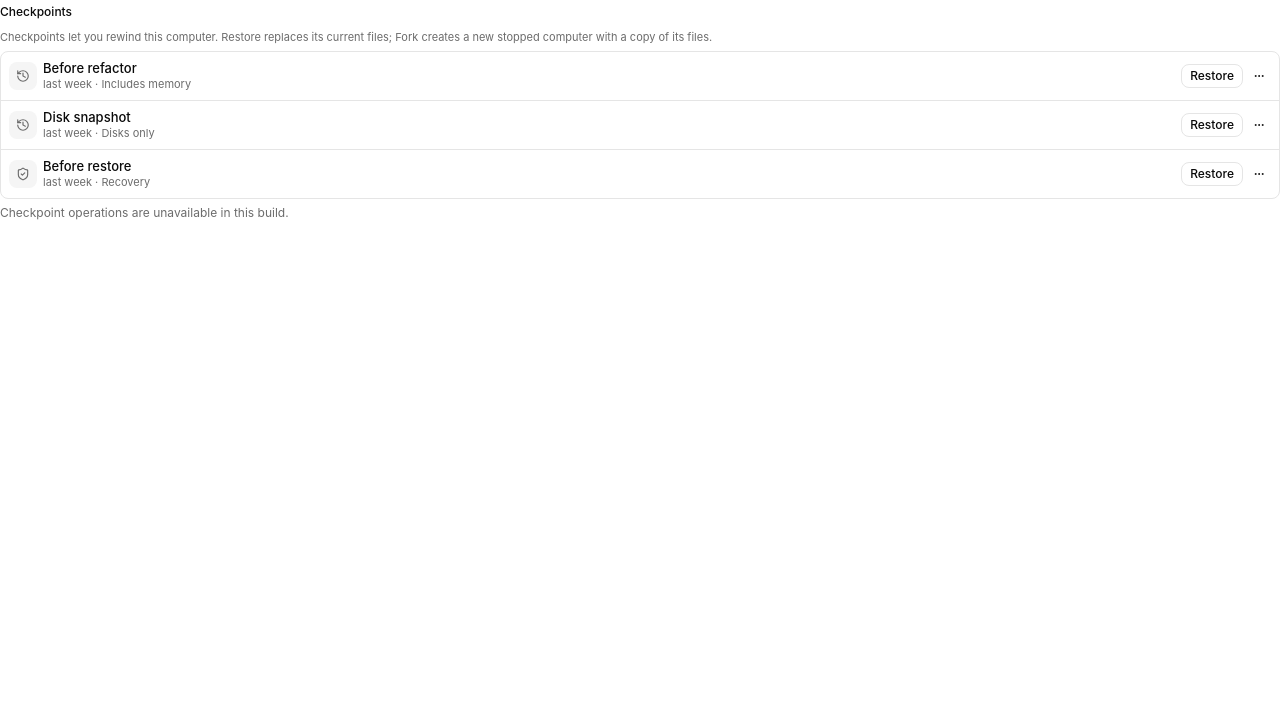
Test: explains the pause, memory checkpoint and force-stop before restoring a running computer
Click the button "Restore" in the row of "Includes memory" at point(1212, 76), box [1181,64,1243,88]
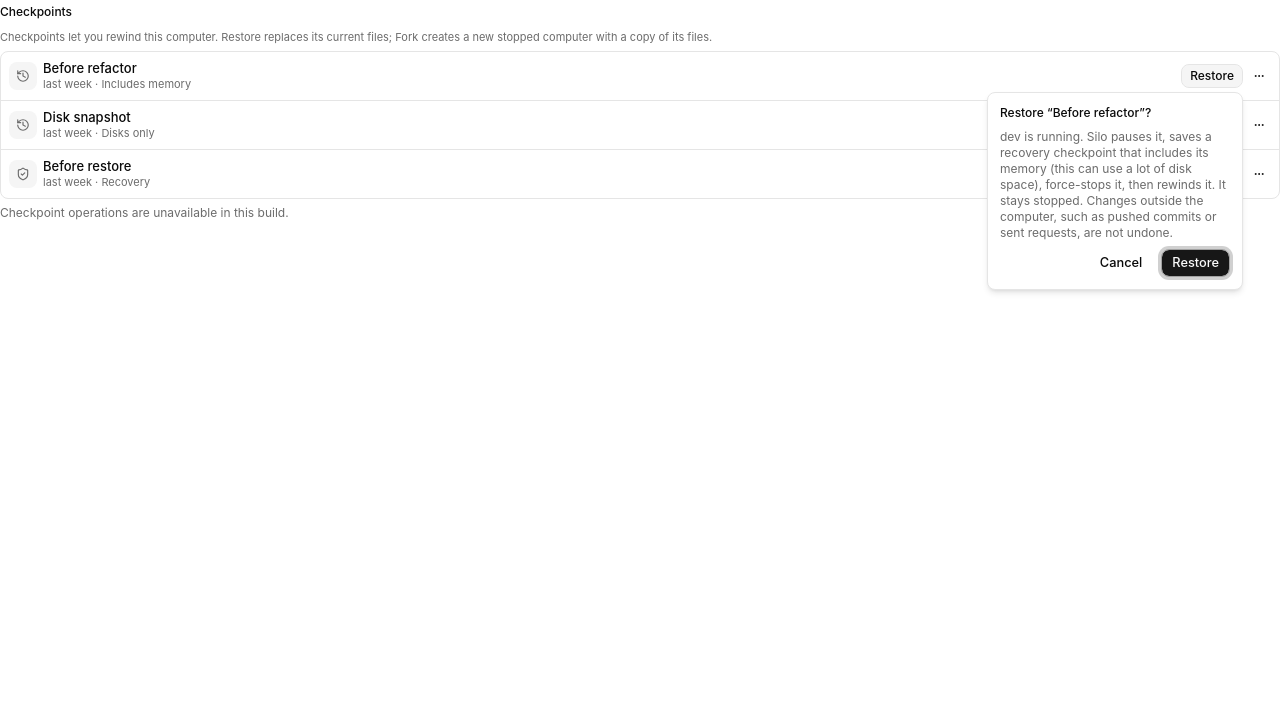
Check: the text "dev is running" shows "pauses it", box [1000,129,1226,240]
Check: the text "dev is running" shows "includes its memory", box [1000,129,1226,240]
Check: the text "dev is running" shows "force-stops it", box [1000,129,1226,240]
